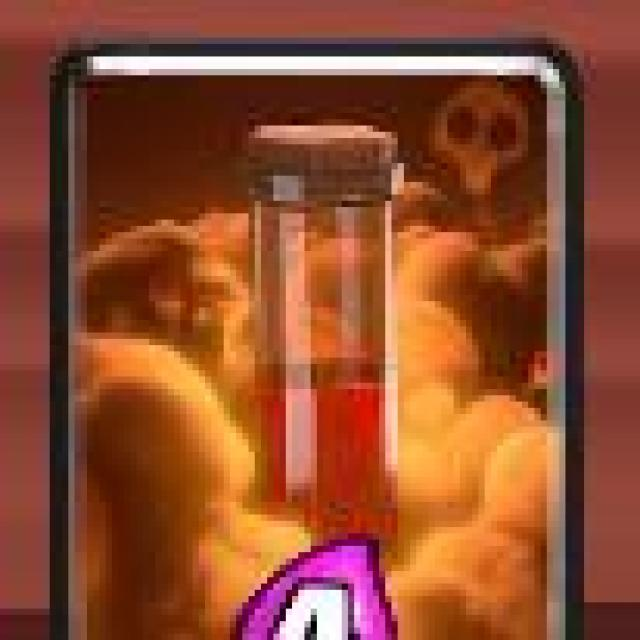Poison: (54, 47, 583, 632)
